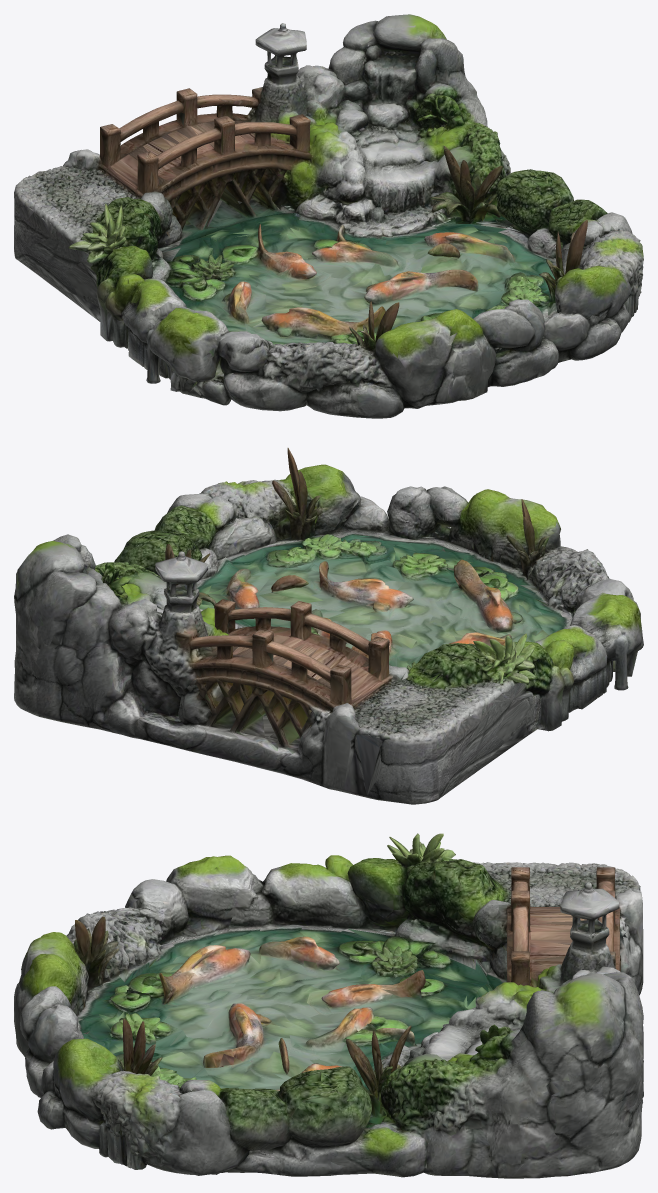
The model's file is Koi_Pond_with_Stone_B.glb.
The picture shows the model from 3 angles, top to bottom: view 1: azimuth 30°, elevation 25°; view 2: azimuth 150°, elevation 25°; view 3: azimuth 270°, elevation 25°; orthographic projection. The views are drawn at different scales.
Parts seen in each view (by area): view 1: Koi_Pond_with_Stone_B; view 2: Koi_Pond_with_Stone_B; view 3: Koi_Pond_with_Stone_B.
Part boxes in pixels (x1,y1,x2,y2): Koi_Pond_with_Stone_B: (14,14,643,418); Koi_Pond_with_Stone_B: (14,448,643,804); Koi_Pond_with_Stone_B: (14,833,643,1178).
Bounding box in the file's own units: 1.85 × 0.6834 × 1.9.
1 material, 1 textured.
